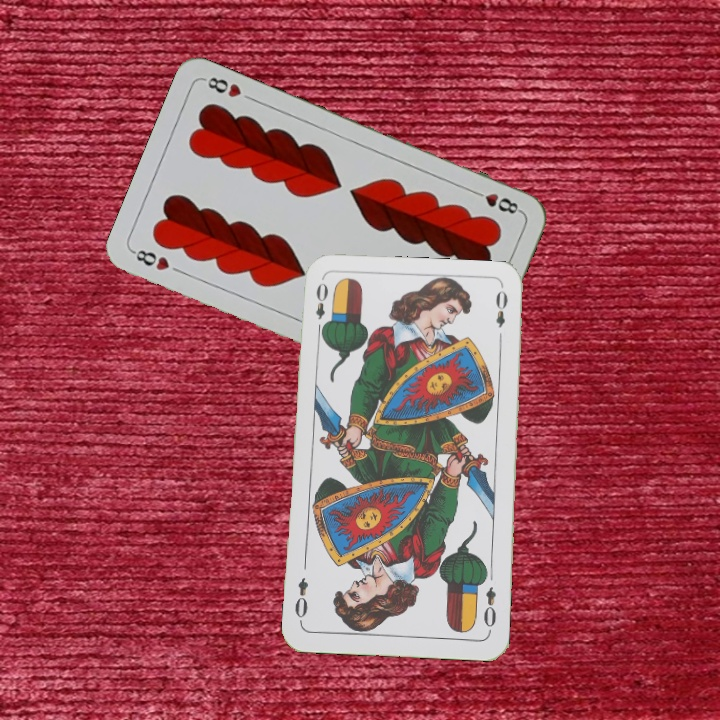EO: (311, 278, 330, 337), (480, 583, 499, 635)
H8: (467, 186, 524, 217), (128, 245, 172, 273)
